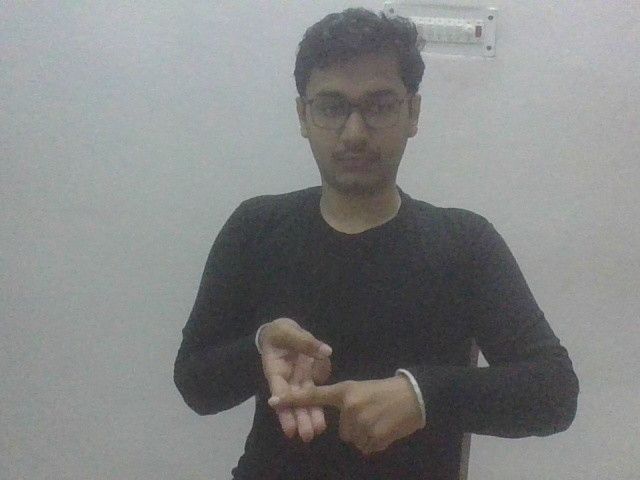E: (254, 314, 429, 457)
